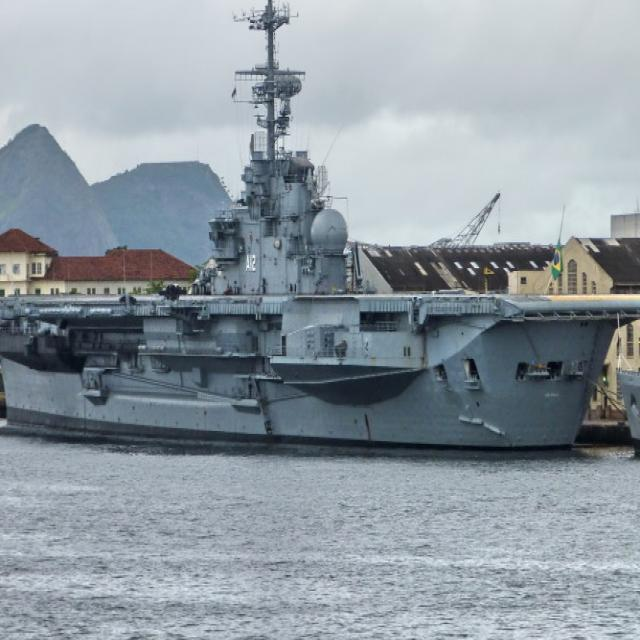Portanaves: (1, 1, 640, 464)
